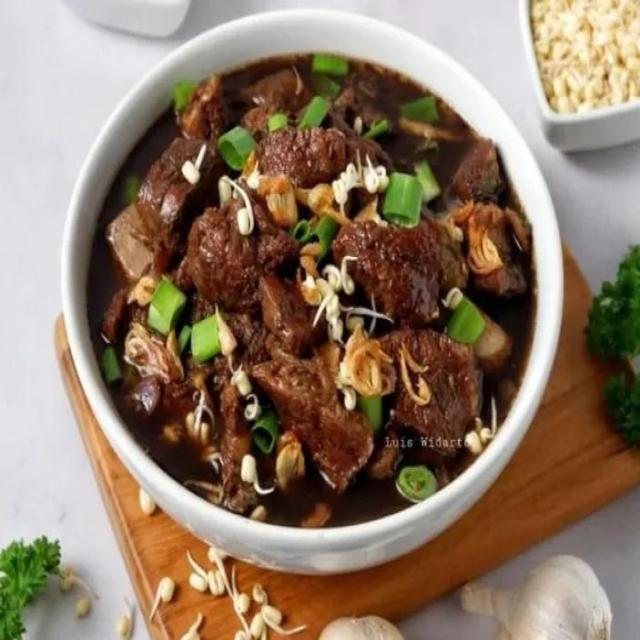Rawon: (79, 64, 526, 516)
